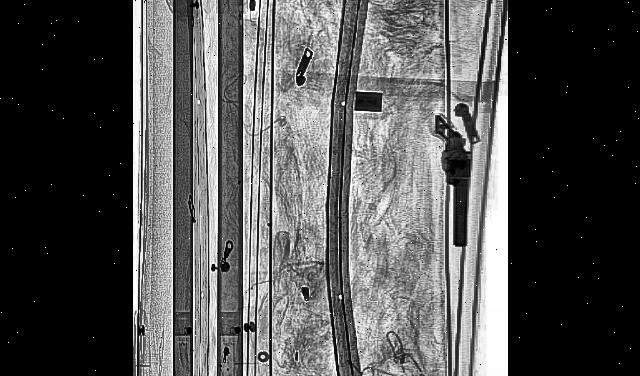Gun: (434, 114, 472, 250)
